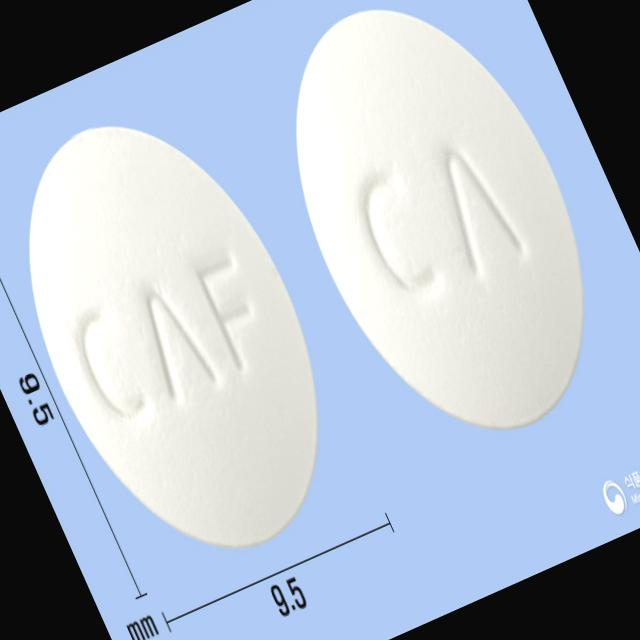Ciflox-Q: (0, 76, 381, 596), (232, 0, 640, 482)
